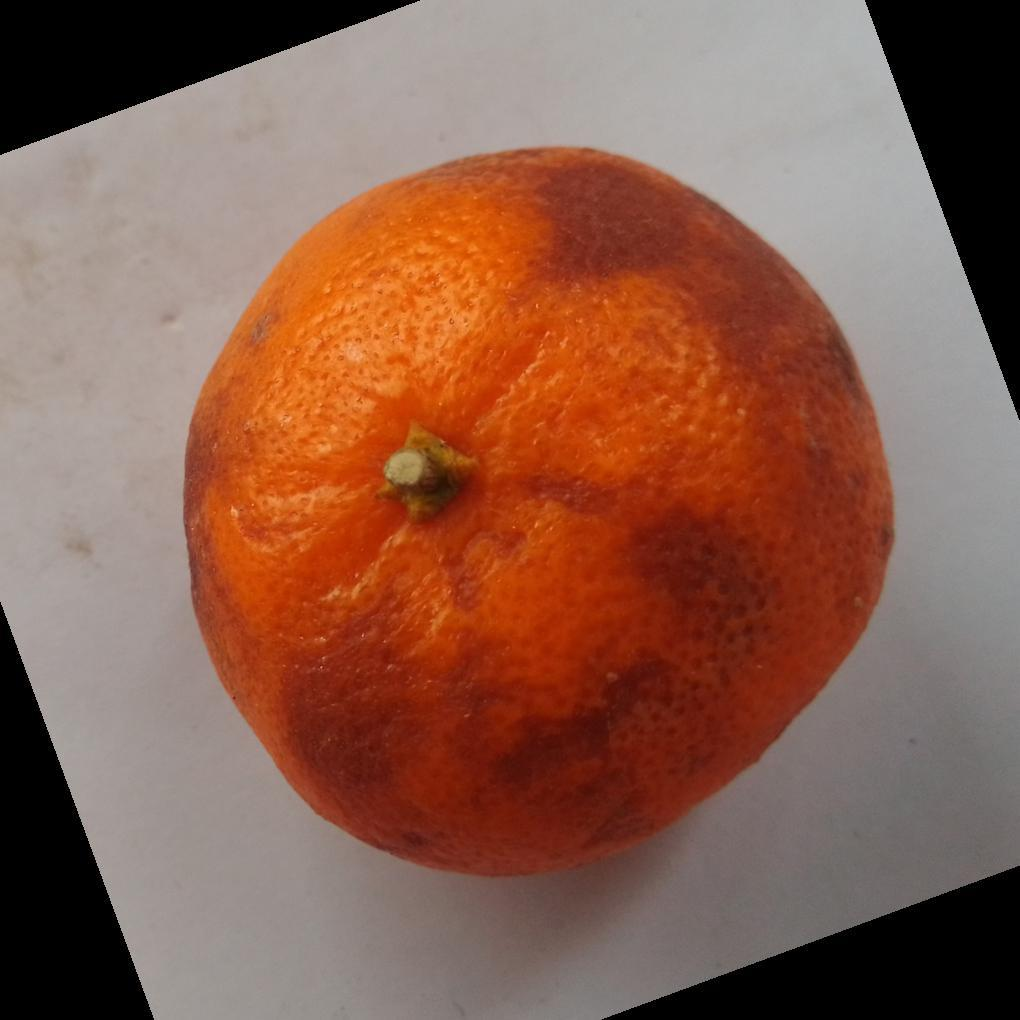FreshOrange: (179, 147, 896, 882)
